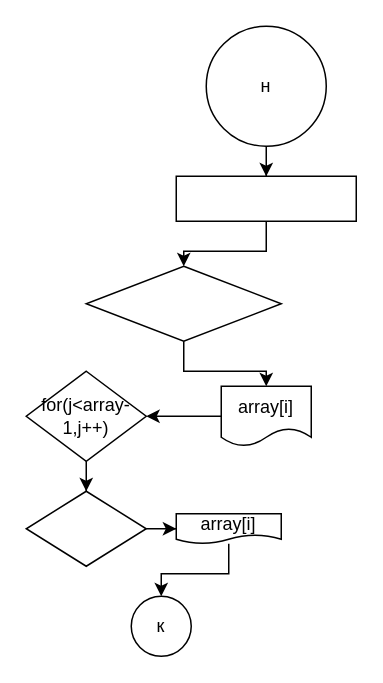
The diagram is 383 pixels wide and 683 high, and some of its shapes have lost their labels. The shapes that lost their labels are listed below. From the top down, each one's centre as x and y in pixels, then its label:
At (265,198): "array random()".
At (183,303): "for(i<array.Lengt, i++)".
At (85,528): "for(i<array,i++)".
